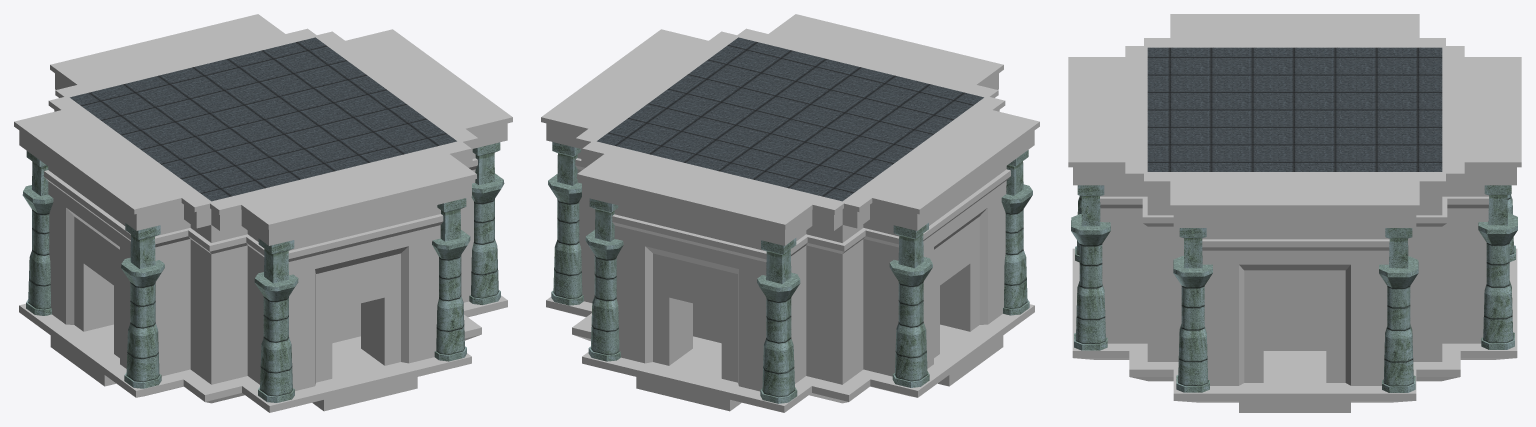
Rendered from Tower_stoneBlock_v02.fbx.
The picture shows the model from 3 angles, left to right: view 1: azimuth 30°, elevation 25°; view 2: azimuth 150°, elevation 25°; view 3: azimuth 270°, elevation 25°; orthographic projection. The views are drawn at different scales.
Parts seen in each view (by area): view 1: StoneStructure (×4), StoneCover, Column01 (×3), Column03 (×2); view 2: StoneStructure (×4), StoneCover, Column03 (×3), Column01 (×2); view 3: StoneStructure (×4), StoneCover, Column03 (×2), Column01 (×2).
Boxes of the visible parts, bbox=[...] form: StoneStructure (×4): bbox=[14, 14, 512, 412]; StoneCover: bbox=[70, 37, 456, 201]; Column01 (×3): bbox=[22, 142, 504, 402]; Column03 (×2): bbox=[121, 198, 470, 388]; StoneStructure (×4): bbox=[541, 14, 1039, 412]; StoneCover: bbox=[597, 37, 983, 201]; Column03 (×3): bbox=[548, 142, 1032, 403]; Column01 (×2): bbox=[585, 198, 932, 387]; StoneStructure (×4): bbox=[1068, 14, 1521, 412]; StoneCover: bbox=[1147, 47, 1442, 171]; Column03 (×2): bbox=[1071, 185, 1418, 392]; Column01 (×2): bbox=[1173, 185, 1517, 392].
Bounding box in the file's own units: 7.85 × 4 × 7.85.
